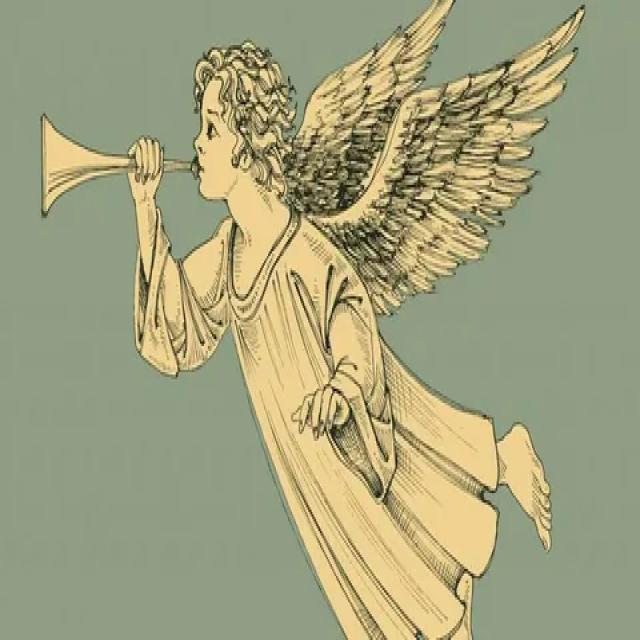angel: (34, 0, 594, 640)
